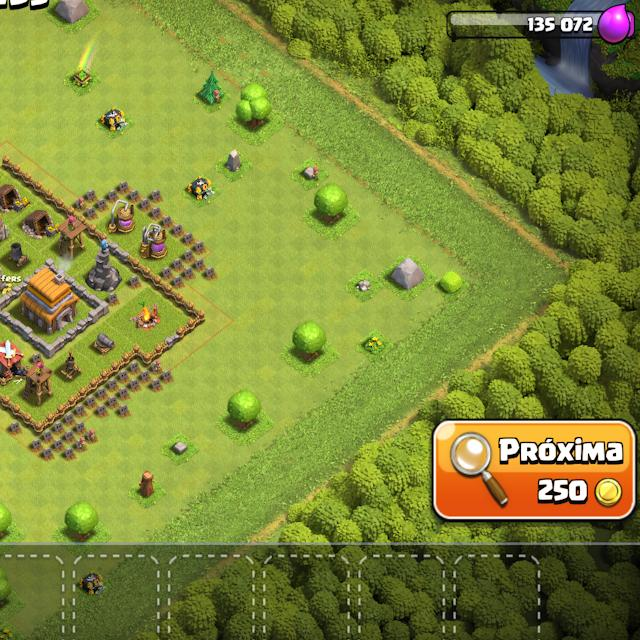Arqueira: (21, 359, 55, 409), (55, 214, 89, 262)
Canhao: (91, 331, 117, 357)
Next: (431, 417, 638, 524)
